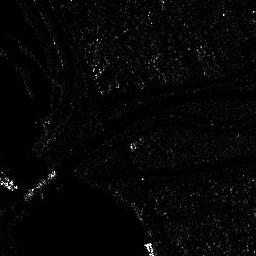ship: (21, 170, 57, 202)
